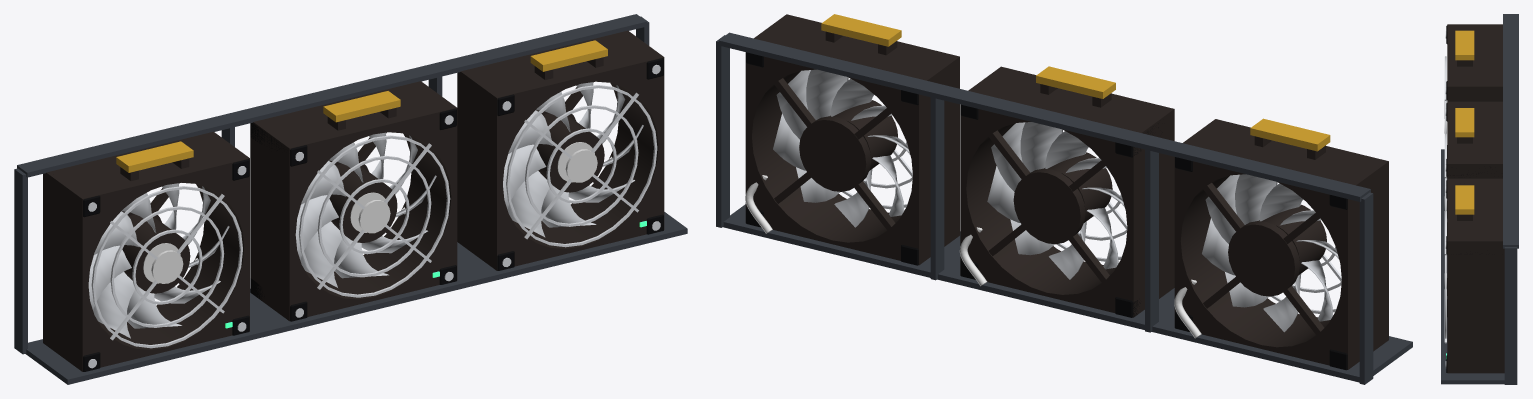
Rendered from hwm_cool_slim_60mm.glb.
3 views of the same model, side by side, from view 1: azimuth 30°, elevation 25°; view 2: azimuth 150°, elevation 25°; view 3: azimuth 270°, elevation 25° (orthographic). The views are drawn at different scales.
Parts seen in each view (by area): view 1: Body, Rotor_Z_2, Rotor_Z_0, Rotor_Z_1; view 2: Body, Rotor_Z_1, Rotor_Z_2, Rotor_Z_0; view 3: Body.
Part boxes in pixels (x1,y1,x2,y2): Body: (14,14,687,384); Rotor_Z_2: (503,82,643,237); Rotor_Z_0: (88,183,229,338); Rotor_Z_1: (295,132,436,287); Body: (716,14,1412,384); Rotor_Z_1: (987,122,1124,279); Rotor_Z_2: (773,69,910,227); Rotor_Z_0: (1202,174,1338,332); Body: (1441,14,1518,384).
Bounding box in the file's own units: 0.3478 × 0.1033 × 0.049.
